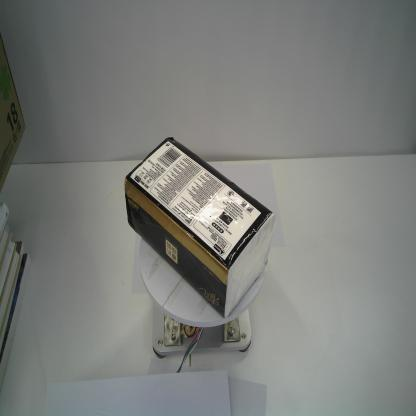Tissue: (123, 134, 275, 322)
